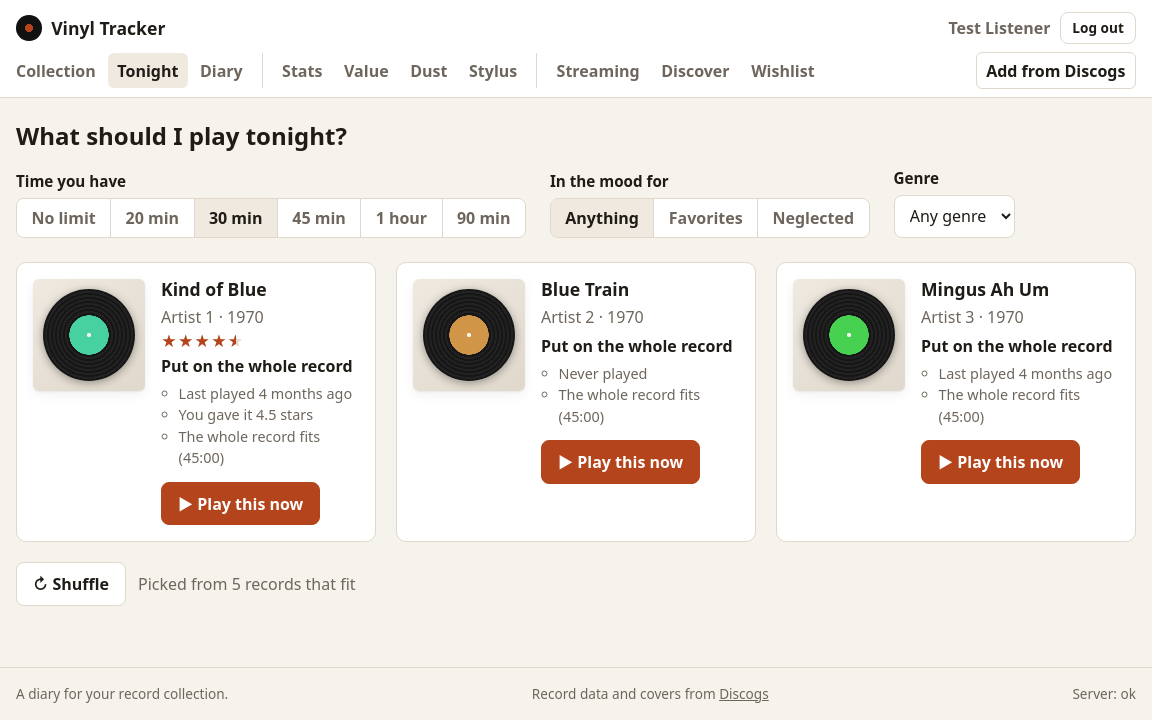
it: TonightPage › logs the play in one click, as starting now
Click the button "▶ Play this now" below "You gave it 4.5 stars": [241, 504] box [161,482,320,526]
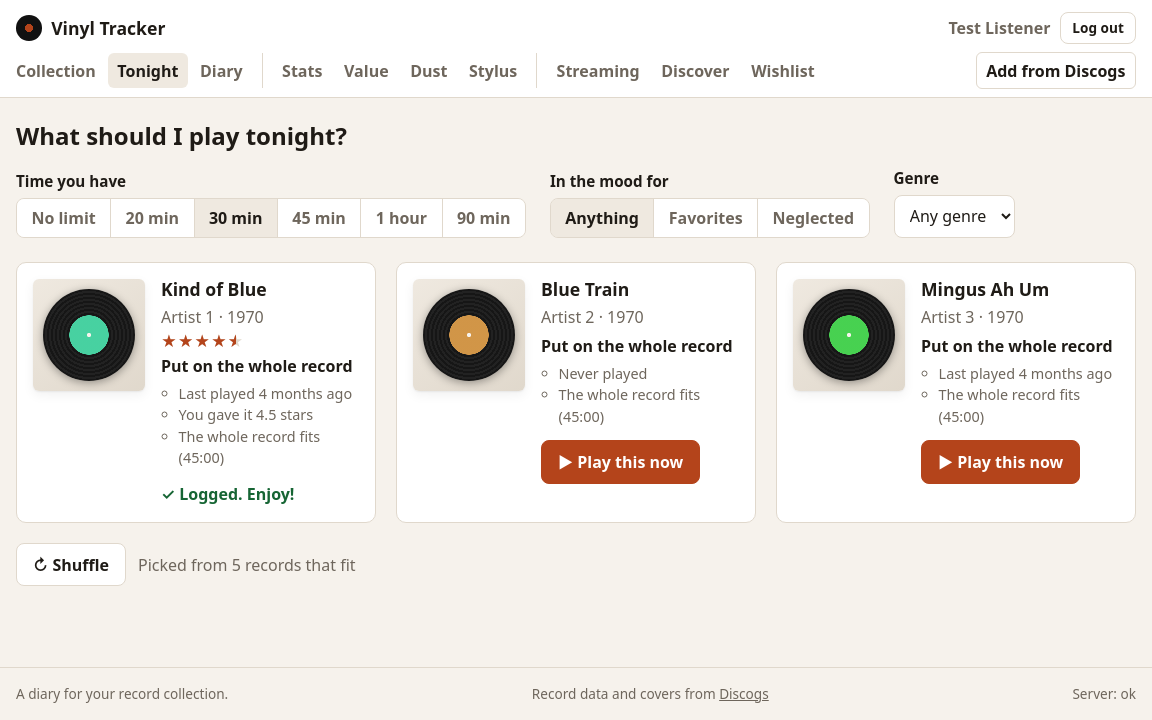
Expected: the message "✓ Logged. Enjoy!" is shown, [161,482,294,506]
Expected: the number of buttons "▶ Play this now" is 2, [541,440,700,484]; [921,440,1080,484]
